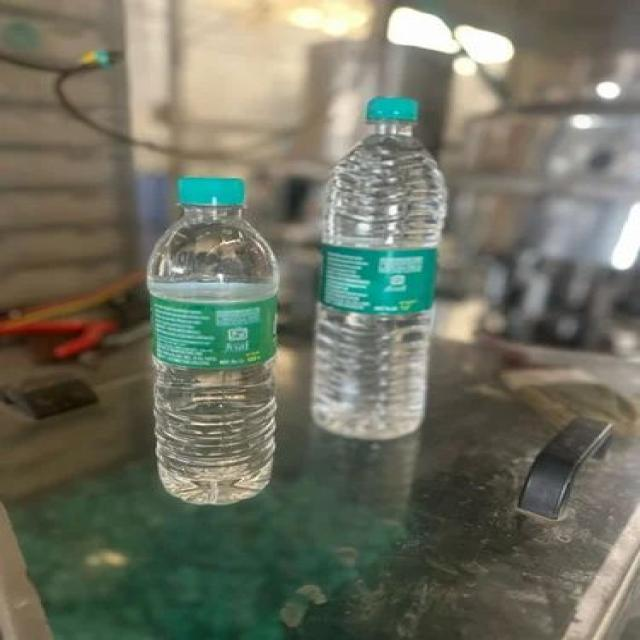plastic bottle: (315, 94, 451, 444), (143, 179, 288, 507)
